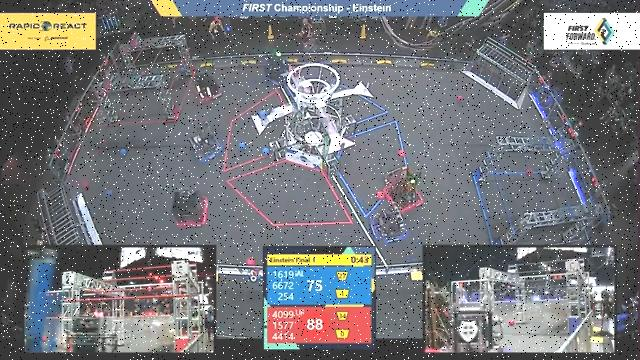Robot: (158, 180, 216, 230), (377, 163, 431, 213), (182, 118, 231, 167), (363, 204, 413, 245), (255, 43, 301, 85), (188, 67, 228, 109)
